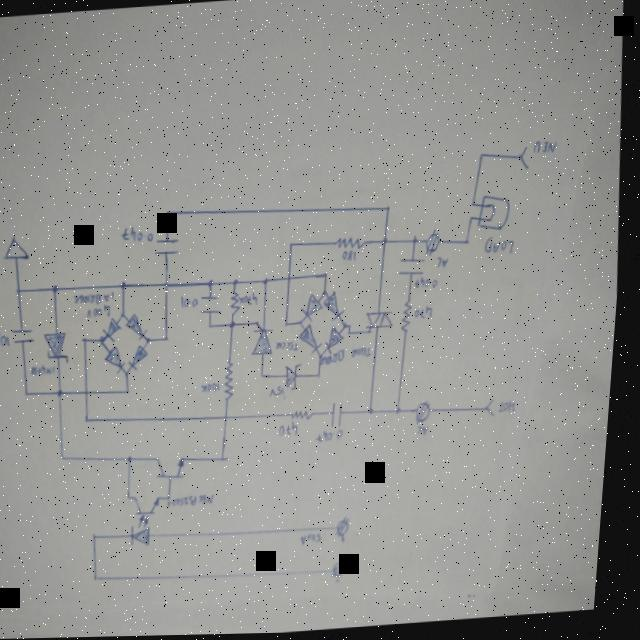capacitor: (402, 255, 430, 279), (157, 235, 183, 258), (204, 292, 227, 318), (16, 324, 40, 346), (334, 403, 353, 429)
crossover: (166, 282, 173, 289), (89, 390, 95, 396), (230, 415, 235, 422), (290, 277, 295, 283)
diode: (47, 332, 75, 365), (302, 324, 328, 356), (326, 292, 350, 323), (129, 313, 153, 341), (304, 295, 327, 322), (109, 347, 132, 374), (329, 328, 350, 355), (289, 364, 308, 392), (133, 345, 154, 370), (107, 317, 127, 342)
ground: (6, 236, 34, 261)
junction: (54, 284, 63, 293), (103, 335, 111, 345), (62, 388, 69, 398), (266, 277, 273, 286), (211, 279, 217, 289), (401, 408, 408, 416), (414, 238, 421, 246), (101, 575, 108, 583), (124, 281, 130, 290), (86, 337, 93, 344), (150, 336, 156, 344), (234, 321, 240, 329), (385, 238, 391, 246), (374, 410, 380, 417), (388, 206, 394, 213), (226, 456, 232, 463), (133, 456, 139, 463), (236, 279, 241, 287), (327, 272, 332, 280), (347, 323, 352, 331), (19, 287, 25, 293), (168, 336, 174, 342), (29, 391, 35, 397), (90, 416, 96, 422), (99, 534, 105, 540), (322, 353, 328, 359), (129, 371, 134, 378), (292, 243, 297, 250), (481, 154, 486, 161), (125, 312, 130, 318), (265, 373, 270, 379), (168, 210, 173, 216), (467, 241, 472, 247), (66, 455, 71, 461), (326, 291, 331, 297), (322, 373, 326, 380), (131, 388, 135, 394), (289, 323, 293, 329), (472, 218, 476, 224), (474, 204, 478, 210), (303, 321, 307, 327), (212, 324, 216, 329), (134, 496, 138, 501), (351, 332, 355, 337), (353, 324, 356, 330), (174, 496, 178, 500)
resistor: (227, 361, 242, 402), (337, 237, 369, 252), (404, 301, 418, 334), (233, 292, 246, 317), (297, 411, 319, 422)
terminal: (342, 517, 358, 538), (339, 562, 357, 579), (519, 149, 532, 172), (492, 400, 502, 418)
text: (124, 224, 158, 245), (174, 494, 222, 508), (76, 291, 120, 306), (488, 237, 518, 257), (325, 350, 351, 366), (321, 430, 350, 444), (534, 142, 560, 157), (90, 304, 116, 319), (417, 277, 442, 292), (280, 340, 304, 354), (284, 423, 305, 438), (36, 364, 61, 376), (242, 293, 263, 307), (308, 533, 330, 546), (418, 307, 438, 321), (184, 295, 204, 309), (355, 348, 377, 360), (0, 331, 15, 348), (345, 250, 361, 265), (504, 402, 522, 415), (206, 383, 225, 394), (439, 257, 453, 271), (275, 387, 291, 398), (423, 426, 436, 437)
thyristor: (254, 320, 280, 357)
transistor: (162, 456, 193, 480)
